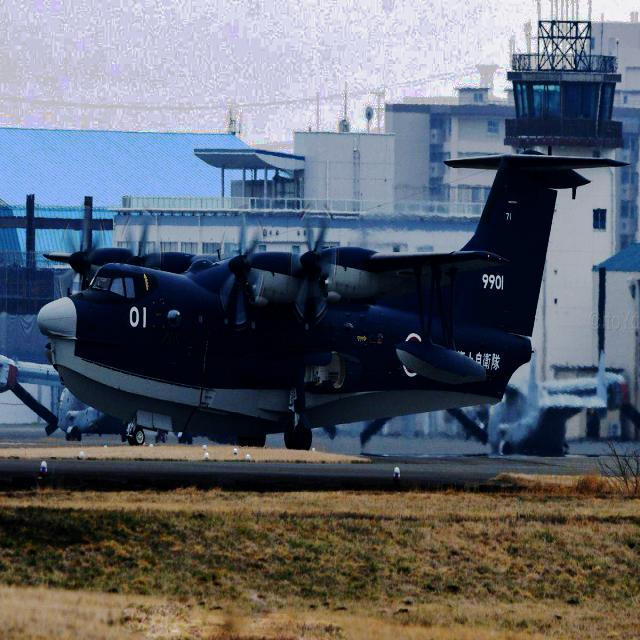Aircraft: (7, 137, 640, 452), (474, 330, 634, 457)
